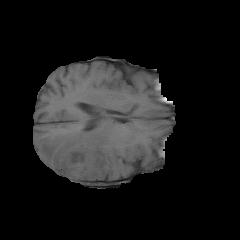glioma: (40, 130, 124, 180)
